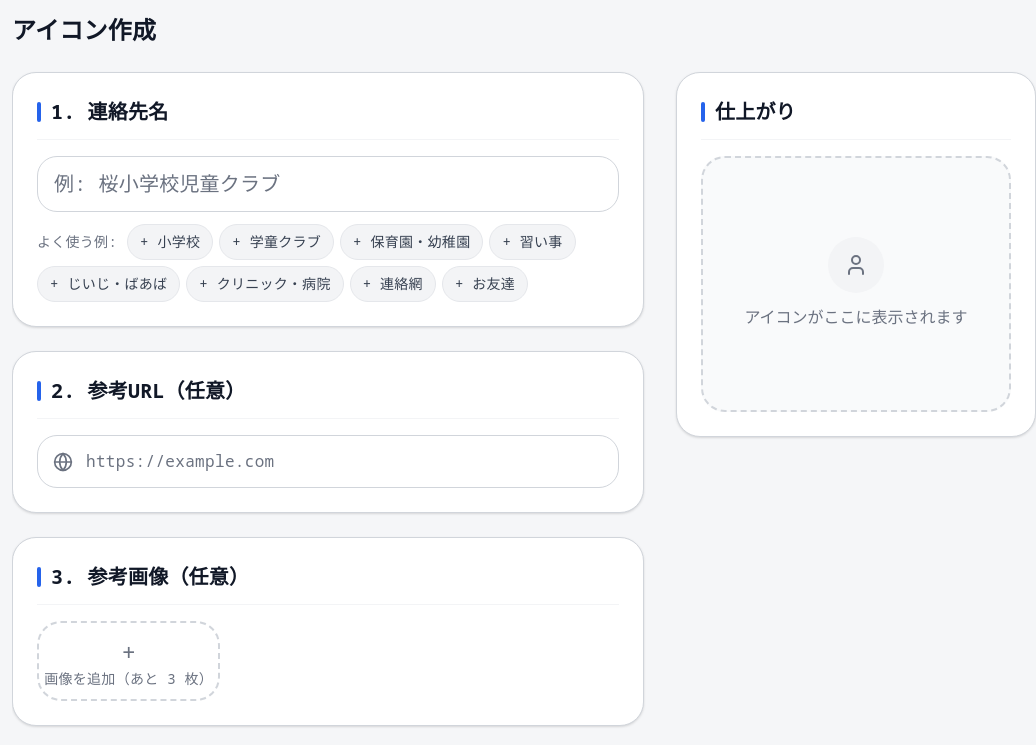
Test case: IconCreator › caps upload slots at the shared MAX_ICON_UPLOADS limit
The image size is (1036, 745).
Step 1. Click the button "+ 画像を追加（あと 3 枚）" → (129, 661), box [37,621,220,701]
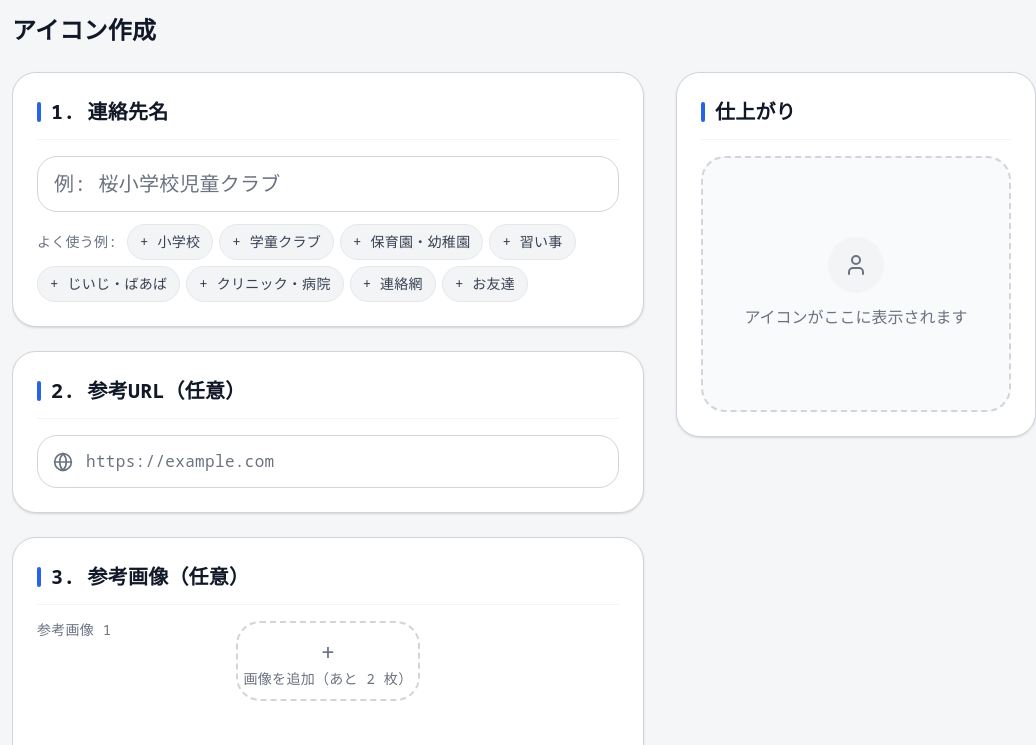
Step 2. Click the button "+ 画像を追加（あと 2 枚）" → (328, 661), box [236,621,420,701]
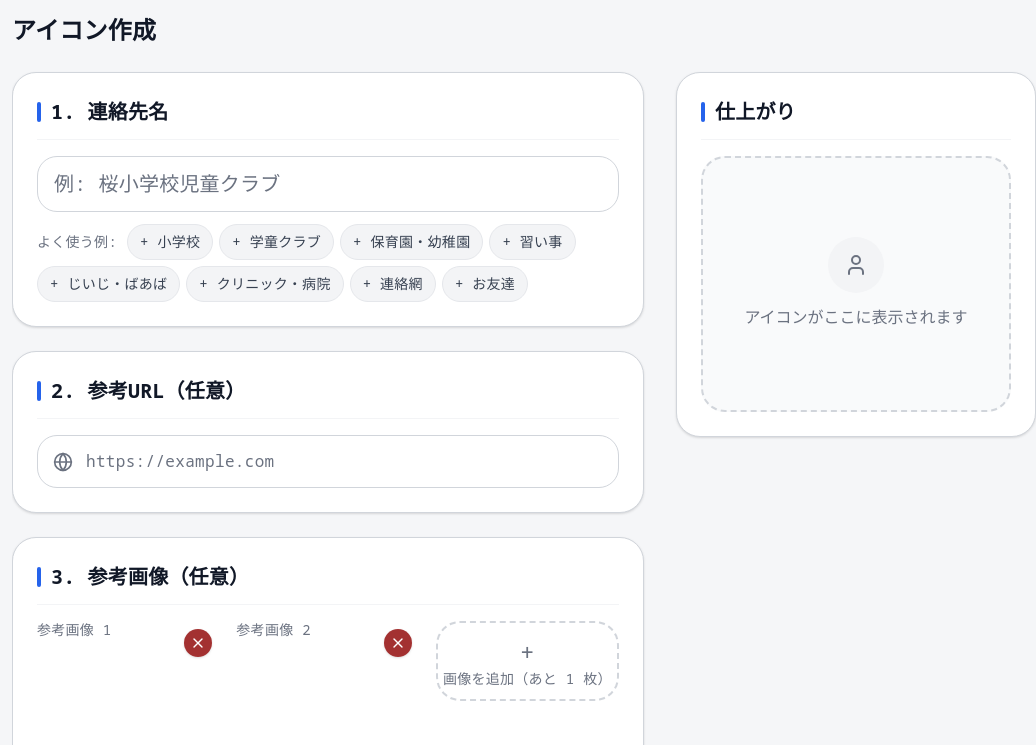
expect the text "画像を追加（あと 1 枚）" is shown: met, box [443,672,612,686]
Step 3. Click the button "+ 画像を追加（あと 1 枚）" → (527, 661), box [436,621,619,701]
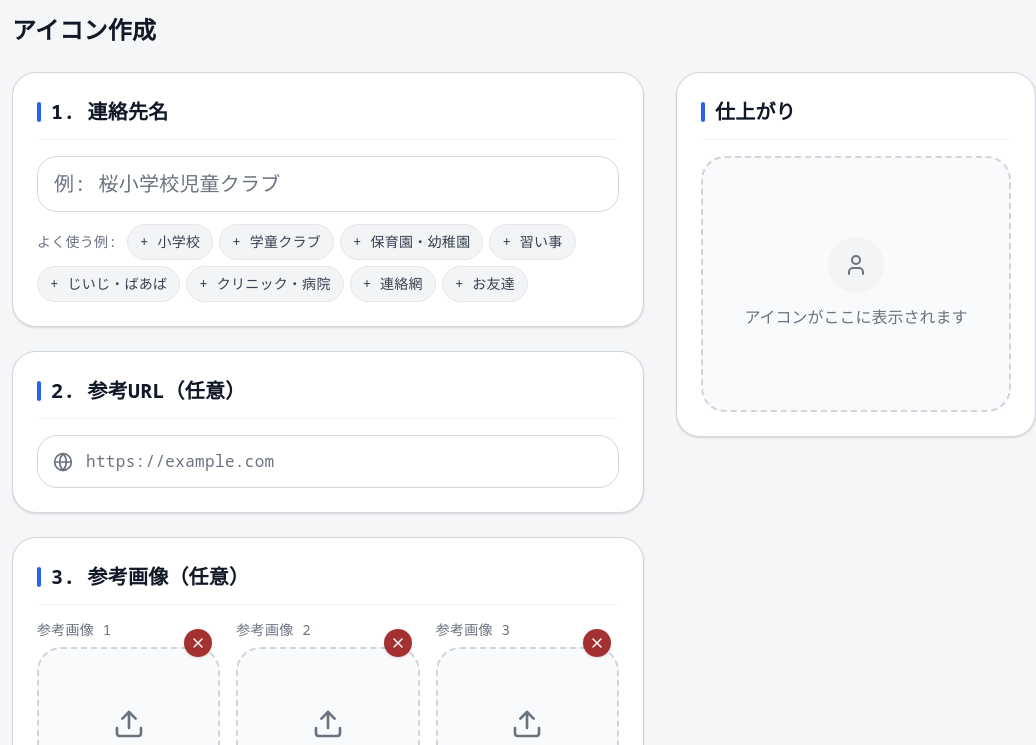
expect the button "画像を追加" is gone: met
expect the number of buttons named "参考画像 1 を削除" is 3: met, box [184,629,212,657]; [384,629,412,657]; [583,629,611,657]
